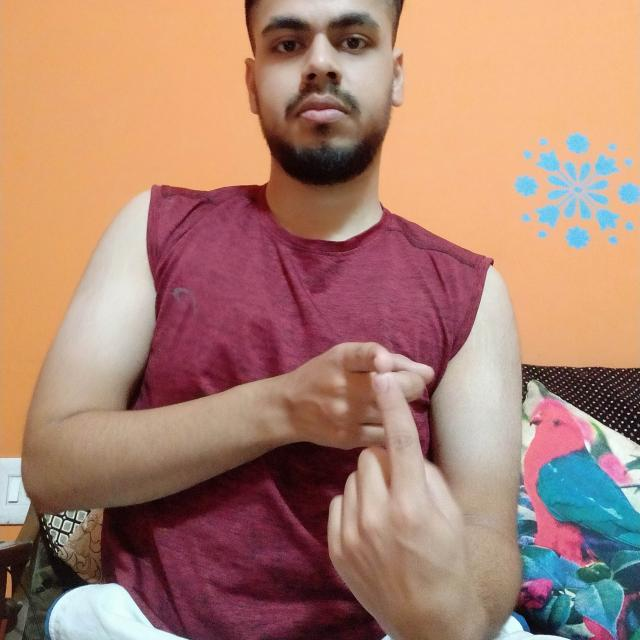I: (257, 324, 478, 631)
